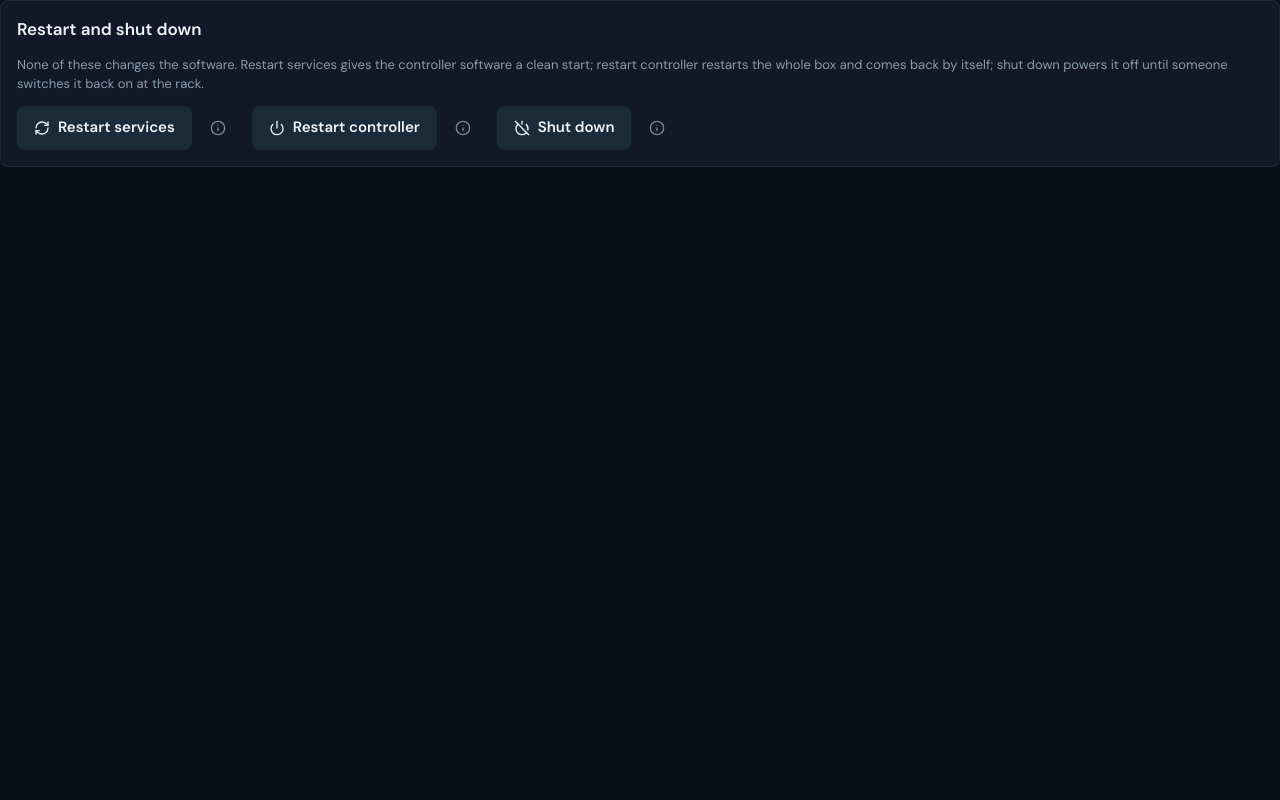
Scenario: RestartRebootCard — restart › names the consequence before it happens, not just 'are you sure'
Click the button "Restart services". click: click(104, 128)
box: [17,106,192,150]
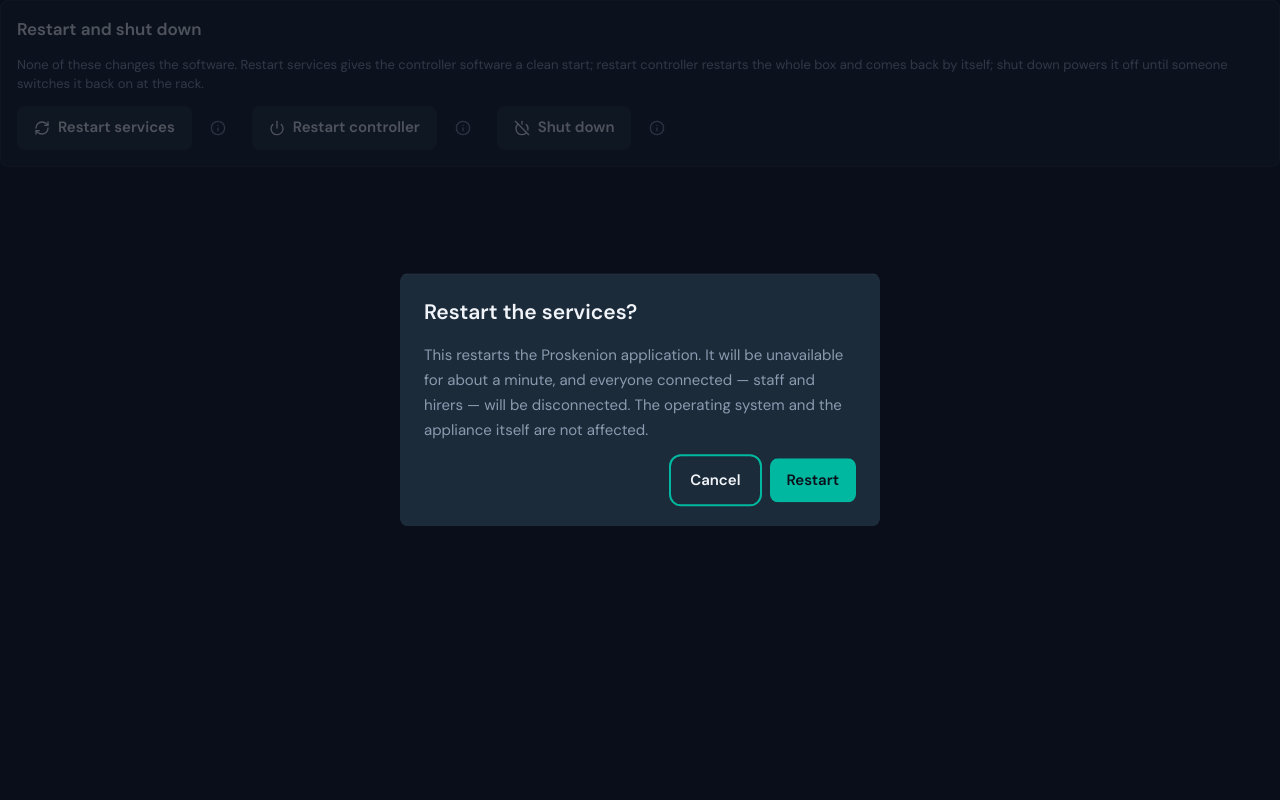
Expected: the dialog shows "restarts the Proskenion application", [424,346,843,440]
Expected: the dialog shows "unavailable for about a minute", [424,346,843,440]
Expected: the dialog shows "operating system and the appliance itself are not affected", [424,346,843,440]
